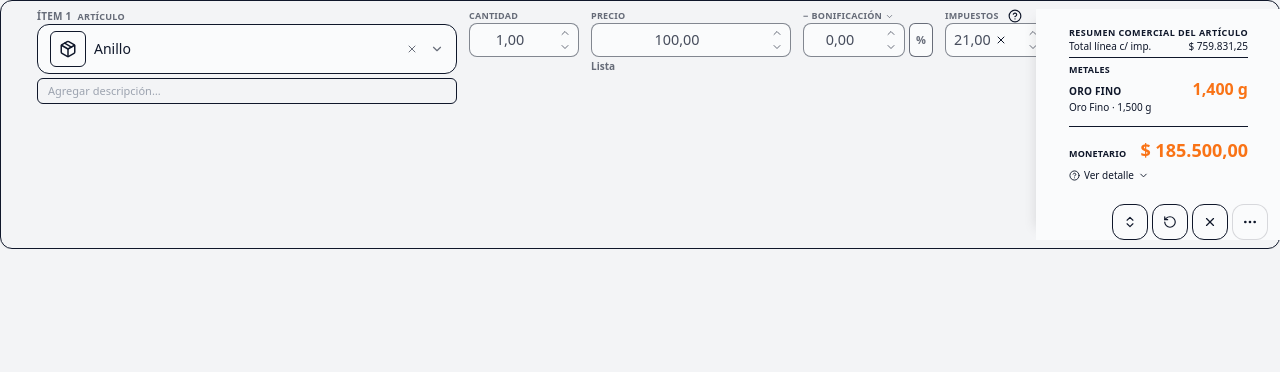
Test case: Resumen Comercial AUTÓNOMO (Opción B) — Desglosada › usa lineOwn* (1.987,50), NO el prorrateo metalRoundingMonetaryImpact (9.999)
This screenshot has width=1280, height=372.
Click the button "Ver detalle". click: (1109, 175)
box: [1069,169,1149,182]
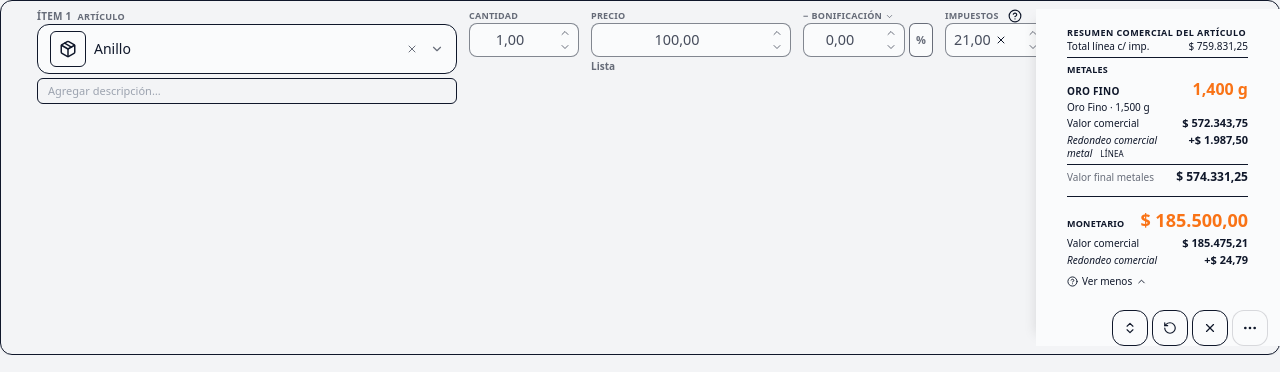
expect the element showing "Total línea c/ imp. $ 759.831,25" is shown: met, box [1067,40,1248,53]
expect the element showing "Valor final metales $ 574.331,25" is shown: met, box [1067,164,1248,184]
